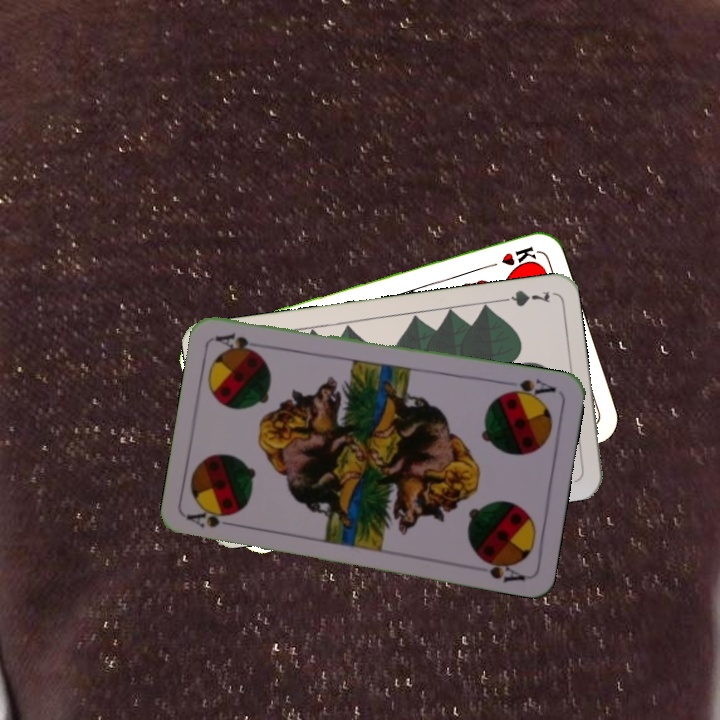G7: (494, 286, 553, 309)
HK: (479, 242, 538, 272)
SA: (499, 374, 559, 402), (184, 507, 243, 530)
